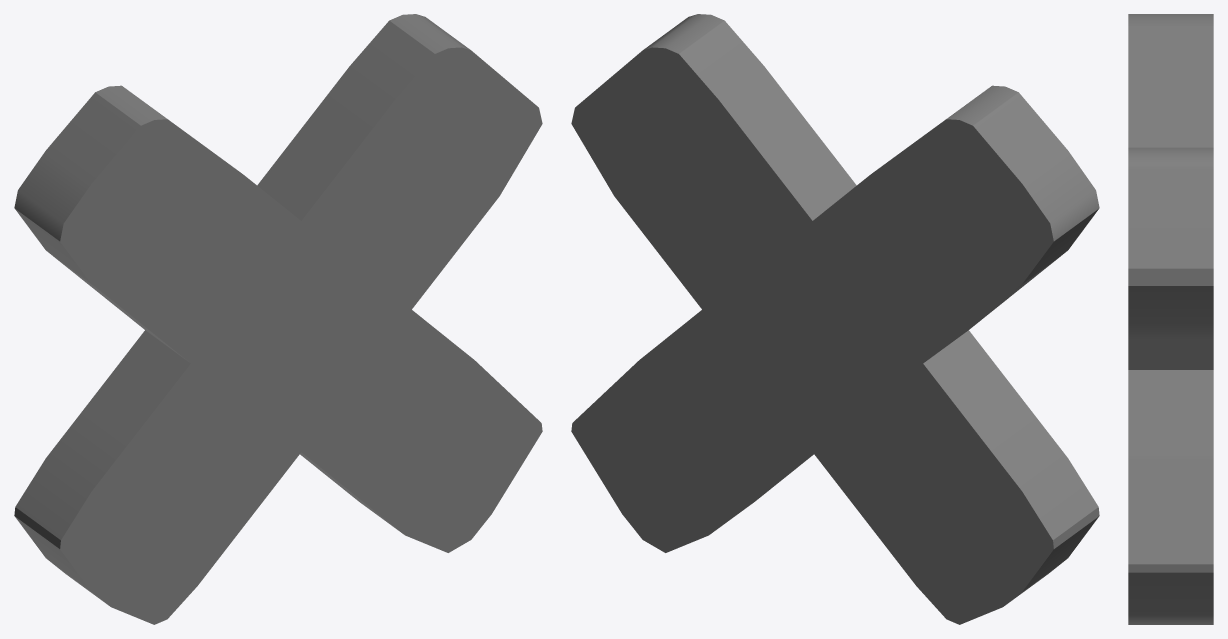
File: fa-close.obj
The picture shows the model from 3 angles, left to right: view 1: azimuth 30°, elevation 25°; view 2: azimuth 150°, elevation 25°; view 3: azimuth 270°, elevation 25°; orthographic projection. The views are drawn at different scales.
Bounding box in the file's own units: 0.7015 × 0.7015 × 0.1152.
Materials: 1 (1 with a texture image).
